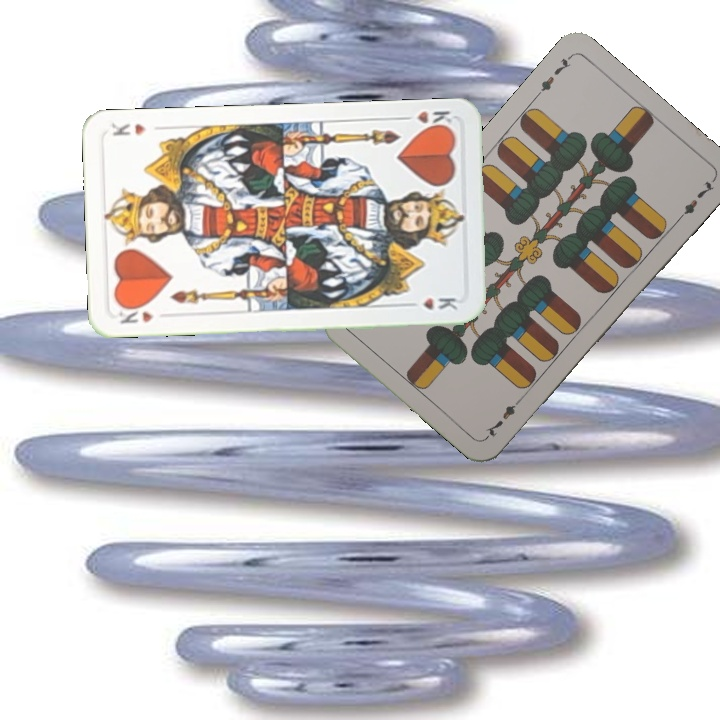E7: (481, 393, 525, 441), (531, 52, 574, 101)
HK: (396, 106, 455, 133), (114, 301, 156, 326)
